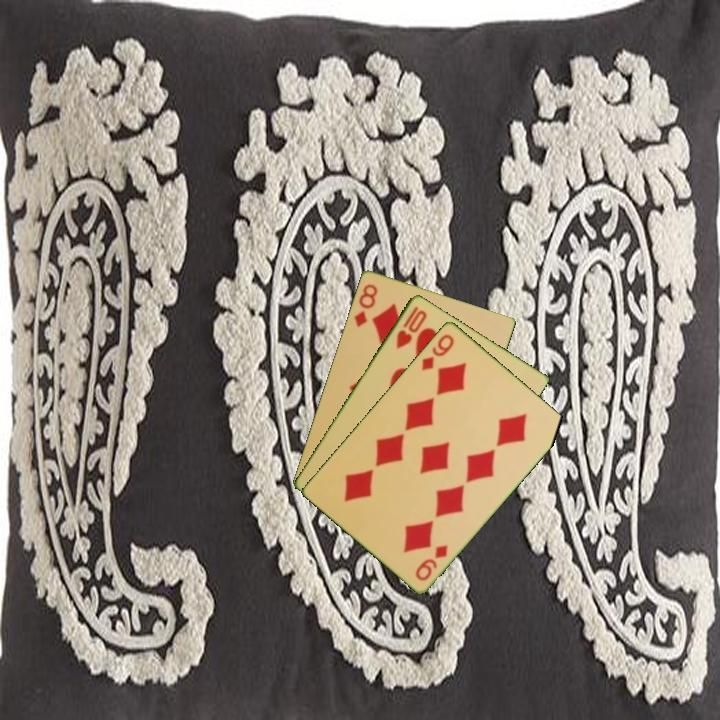10h: (392, 302, 430, 351)
8d: (350, 280, 380, 330)
9d: (418, 330, 457, 373), (412, 541, 451, 583)
